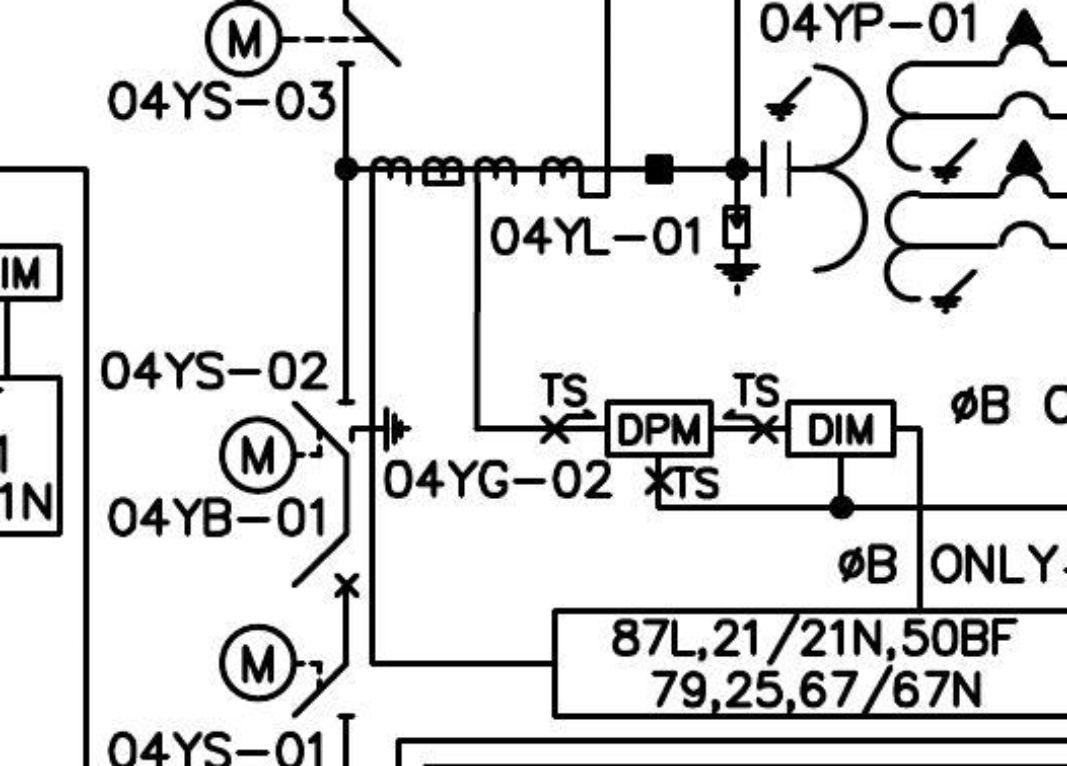115_1way_ds_w_motor: (217, 623, 356, 720)
115_3ways_ds_w_motor: (217, 398, 414, 497)
115_breaker: (291, 531, 360, 599)
115_cvt_1p: (759, 7, 1055, 317)
115_la: (713, 204, 762, 298)
DIM: (785, 399, 896, 459)
DPM: (604, 399, 715, 459)
